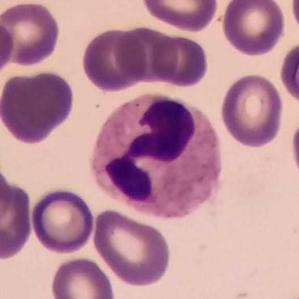Neutrophil: (83, 87, 230, 225)
RBC: (90, 206, 173, 288), (0, 68, 78, 146), (218, 72, 285, 150), (29, 185, 96, 256), (79, 26, 149, 93), (0, 0, 63, 68), (113, 24, 181, 84), (219, 0, 287, 57), (148, 32, 211, 90), (48, 254, 117, 299), (0, 178, 34, 262), (140, 0, 220, 33), (277, 38, 299, 109), (0, 17, 16, 84), (0, 162, 13, 229), (290, 116, 299, 176), (289, 0, 299, 36)
